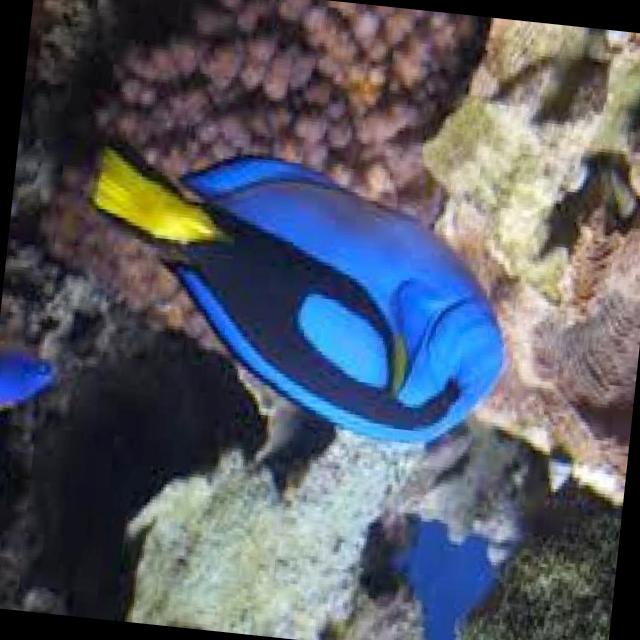BlueTang: (62, 138, 526, 450)
